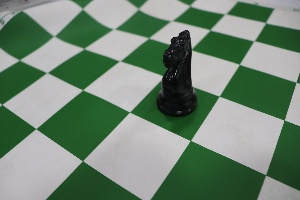black_horse: (149, 17, 201, 125)
